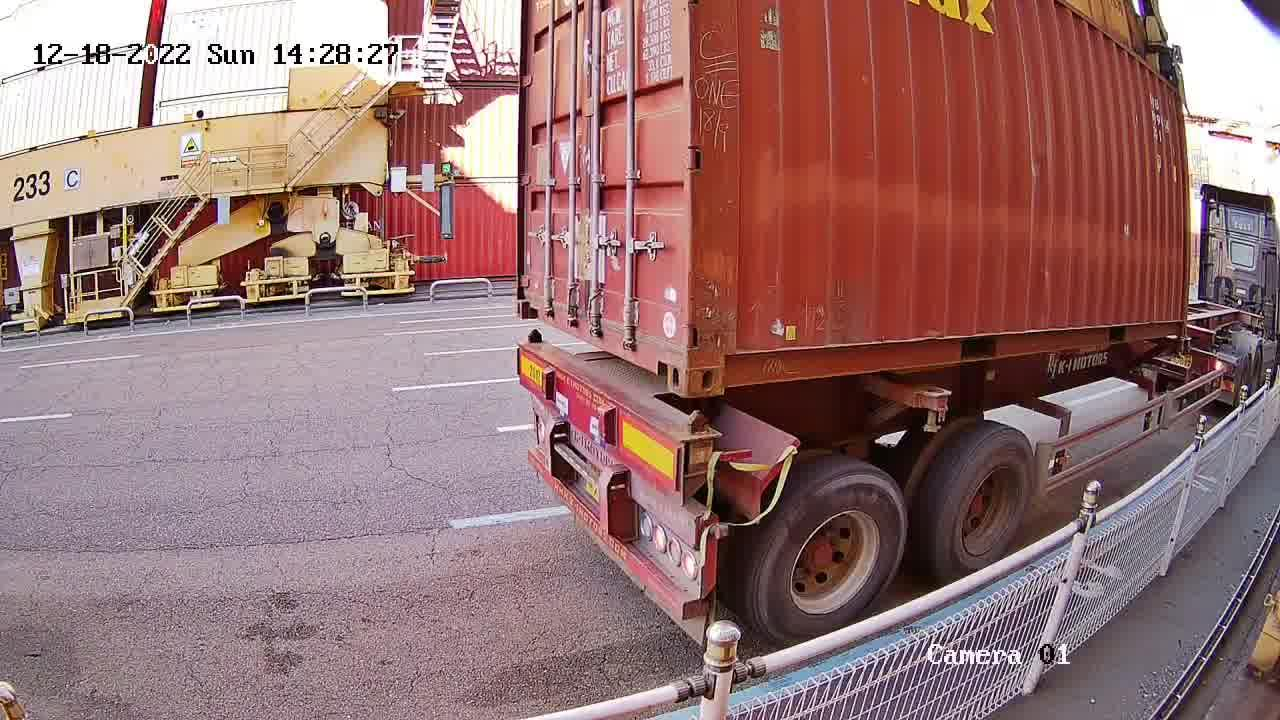Chassis: (518, 340, 724, 500)
Cone: (671, 408, 712, 442), (516, 326, 546, 364)
Hole_L: (689, 313, 762, 395), (517, 277, 549, 324)
Hole_R: (634, 311, 688, 397)
Tire: (759, 471, 905, 638), (934, 429, 1035, 572)
